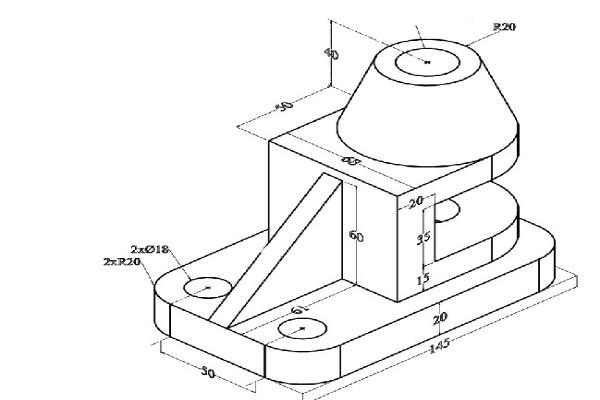dimensions: (91, 252, 150, 271), (486, 19, 526, 40), (424, 336, 456, 360), (129, 239, 174, 255), (284, 302, 313, 324), (319, 43, 346, 62), (409, 229, 437, 247), (429, 310, 454, 330), (406, 192, 428, 214), (269, 97, 297, 114), (197, 363, 220, 383), (341, 150, 363, 170), (347, 226, 367, 247), (414, 270, 434, 287)
